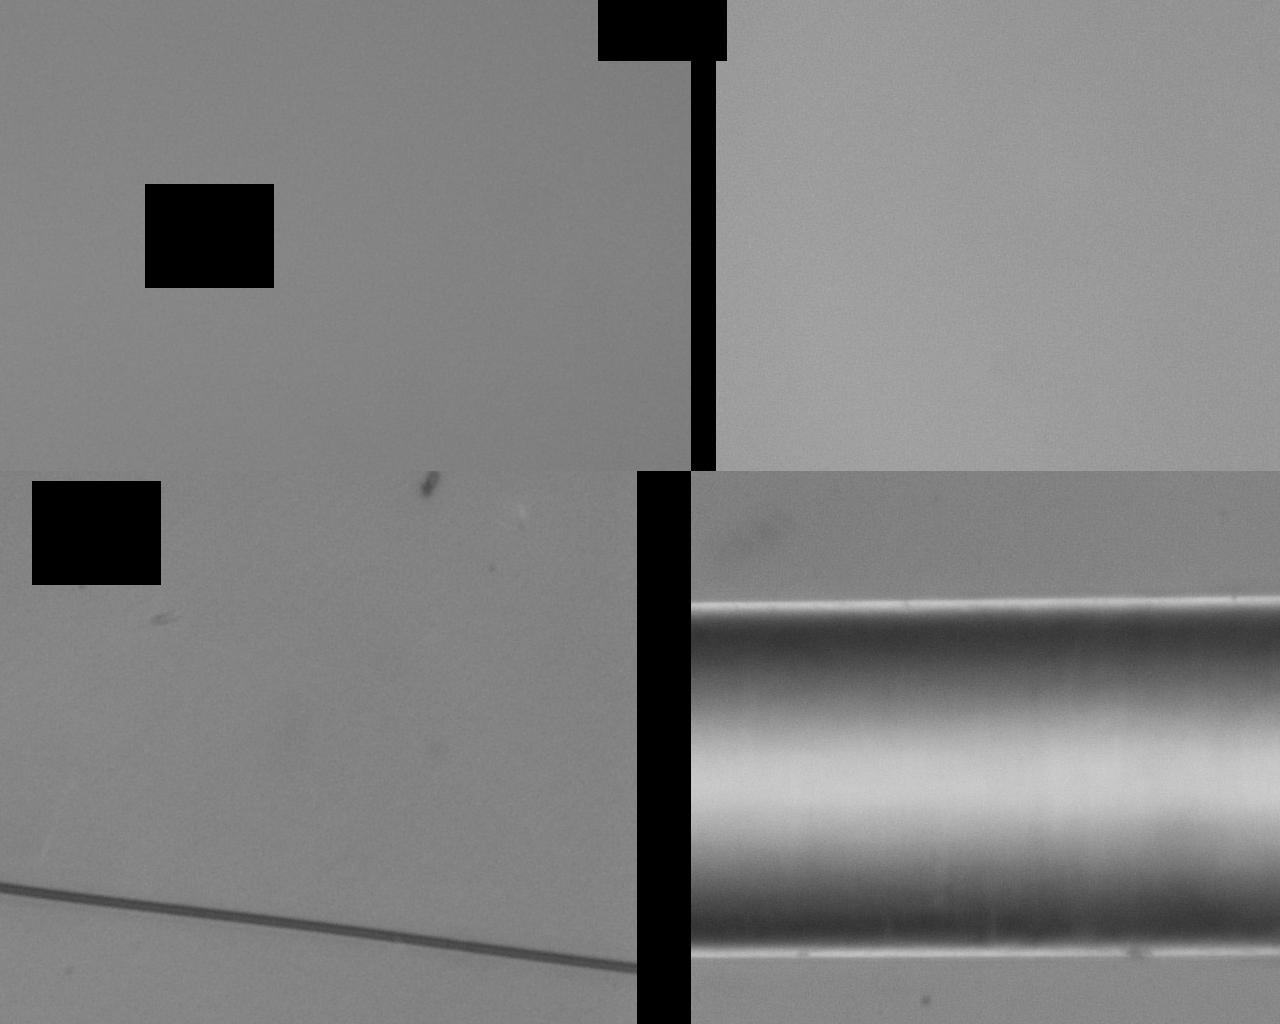fiber: (303, 0, 555, 348)
